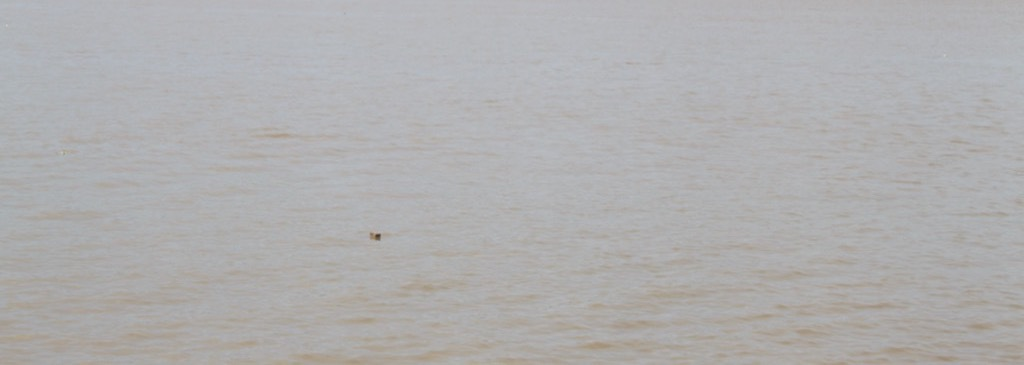plastic: (358, 220, 398, 253)
